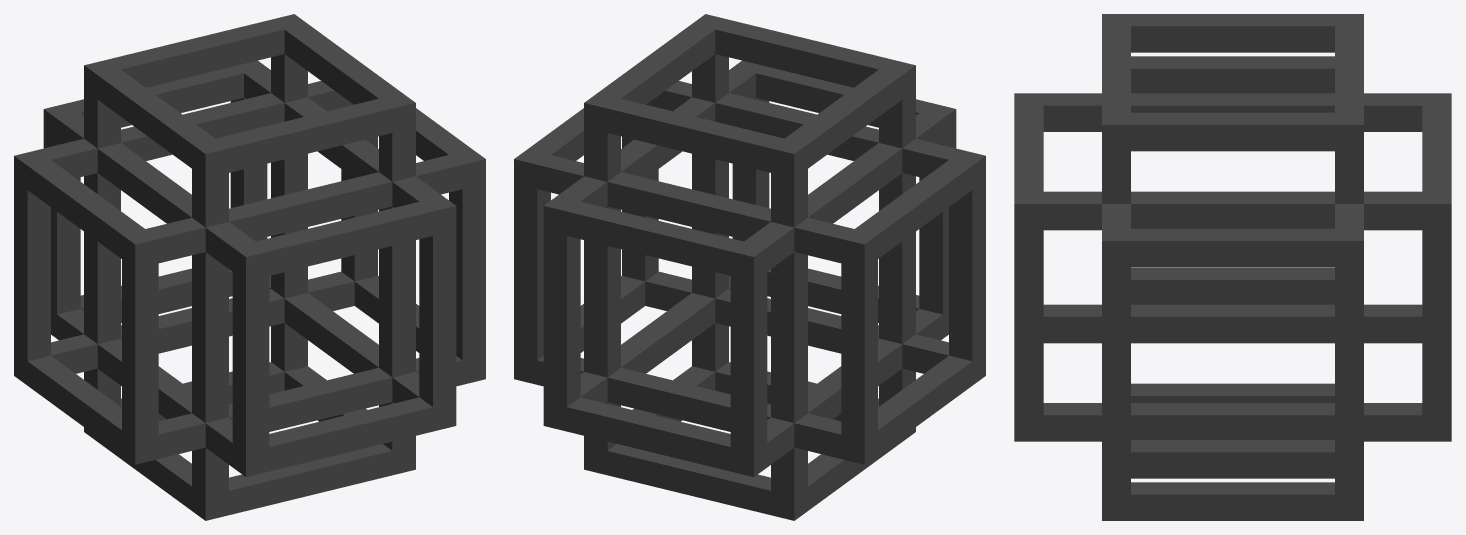
The model's file is 15x15_CubicDesign.obj.
3 renders of one model, left to right at view 1: azimuth 30°, elevation 25°; view 2: azimuth 150°, elevation 25°; view 3: azimuth 270°, elevation 25°, orthographic. The views are drawn at different scales.
Size of the model in its own units: 1.5 by 1.5 by 1.5.
Materials: 1 (1 with a texture image).
